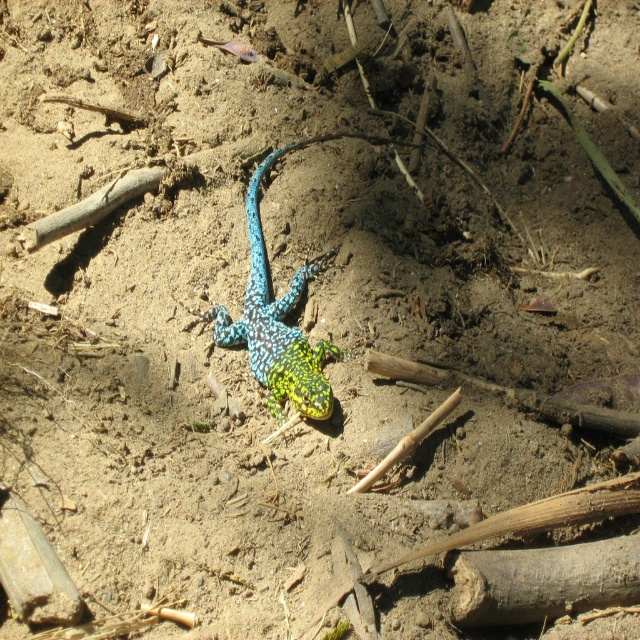Lizard: (194, 143, 351, 434)
